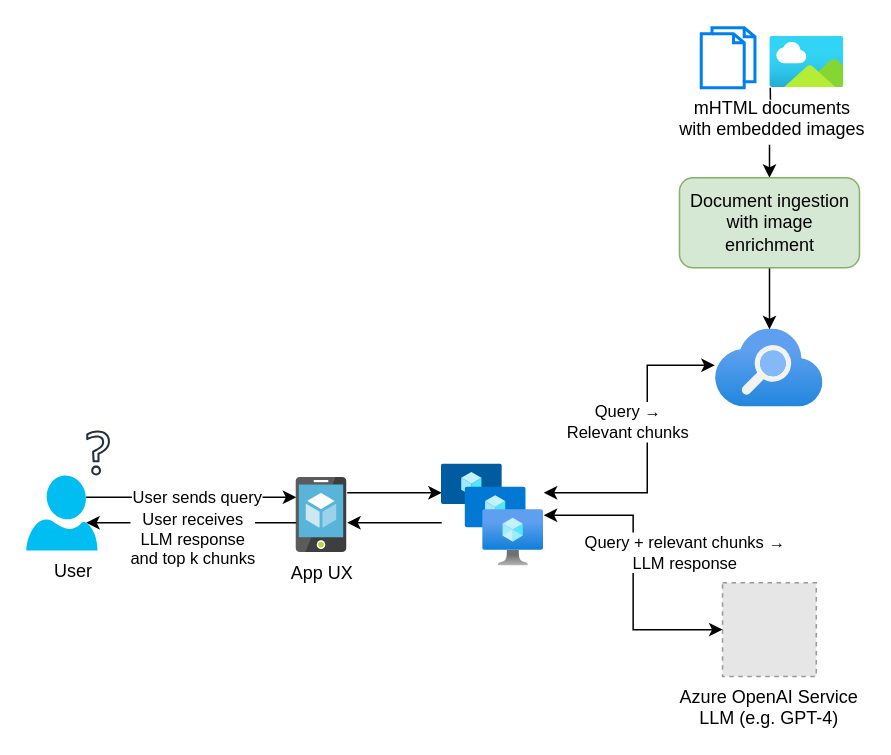
The diagram is 891 pixels wide and 755 high, and some of its shapes have lost their labels. Grey dashed boxes stand in for pictures. Each missing label, with the centre of its shape:
App server/ orchestrator: pixel 492 515
Azure AI Search: pixel 769 367
